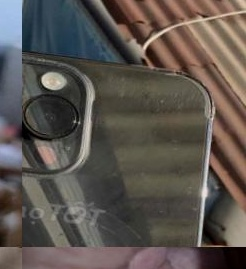scratch: (120, 58, 226, 164), (22, 106, 98, 194), (22, 32, 128, 89), (157, 174, 207, 240)
